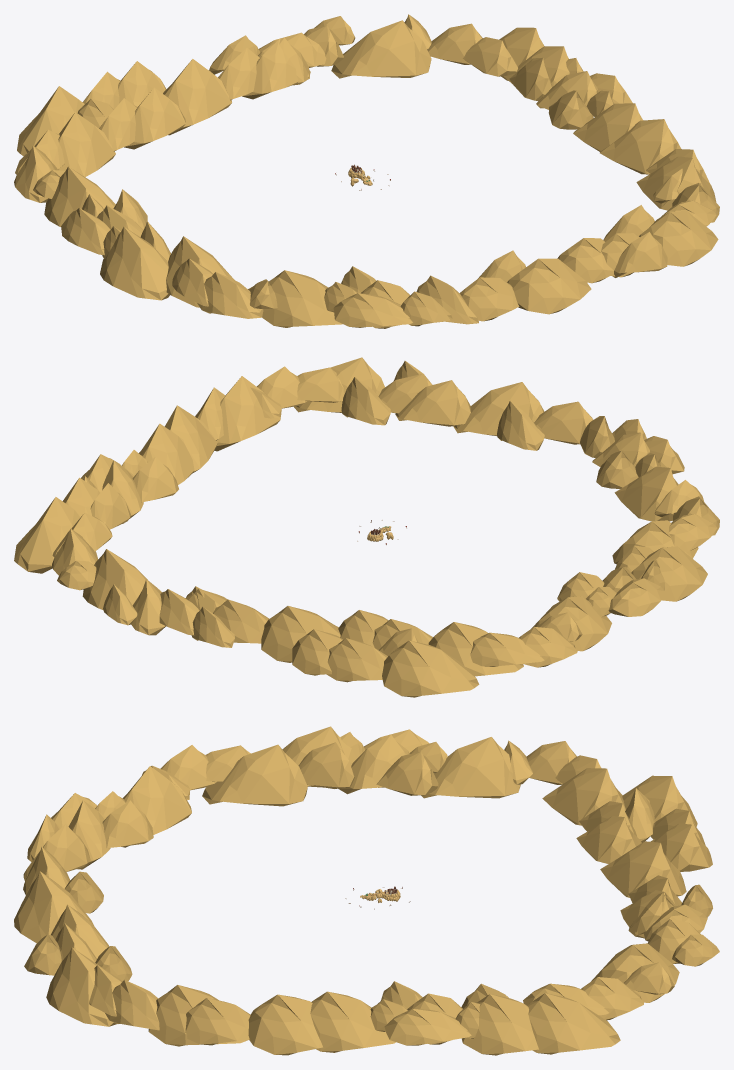
The model's file is mountain.glb.
3 renders of one model, top to bottom at view 1: azimuth 30°, elevation 25°; view 2: azimuth 150°, elevation 25°; view 3: azimuth 270°, elevation 25°, orthographic. The views are drawn at different scales.
Visible parts, largest first — view 1: Cube.103, Cube.080, Cube.091, Cube.072, Cube.064, Cube.084, Cube.112, Cube.050, Cube.077, Cube.047, Cube.053, Cube.068 (+46 smaller); view 2: Cube.068, Cube.100, Cube.087, Cube.064, Cube.081, Cube.091, Cube.080, Cube.103, Cube.072, Cube.066, Cube.050, Cube.051 (+41 smaller); view 3: Cube.069, Cube.100, Cube.053, Cube.112, Cube.092, Cube.110, Cube.084, Cube.064, Cube.091, Cube.050, Cube.072, Cube.111 (+47 smaller).
Boxes of the visible parts, x1,y1,x2,y2 form: Cube.103: (331, 20, 431, 78); Cube.080: (100, 227, 169, 300); Cube.091: (507, 258, 591, 314); Cube.072: (262, 270, 342, 327); Cube.064: (163, 59, 231, 135); Cube.084: (639, 211, 718, 266); Cube.112: (600, 119, 681, 174); Cube.050: (58, 112, 115, 177); Cube.077: (333, 293, 412, 327); Cube.047: (124, 87, 185, 149); Cube.053: (44, 166, 115, 226); Cube.068: (17, 86, 84, 156); Cube.068: (382, 640, 479, 697); Cube.100: (14, 497, 81, 573); Cube.087: (214, 376, 280, 451); Cube.064: (261, 606, 340, 662); Cube.081: (395, 380, 470, 426); Cube.091: (453, 382, 544, 435); Cube.080: (631, 546, 707, 601); Cube.103: (82, 549, 147, 609); Cube.072: (614, 466, 678, 521); Cube.066: (326, 638, 387, 682); Cube.050: (428, 622, 523, 676); Cube.051: (470, 632, 544, 666); Cube.069: (202, 744, 307, 806); Cube.100: (527, 993, 620, 1054); Cube.053: (421, 737, 520, 798); Cube.112: (248, 994, 322, 1055); Cube.092: (310, 991, 395, 1052); Cube.110: (461, 994, 538, 1055); Cube.084: (46, 947, 116, 1026); Cube.064: (600, 841, 686, 897); Cube.091: (14, 871, 93, 943); Cube.050: (542, 768, 625, 825); Cube.072: (121, 766, 191, 847); Cube.111: (185, 998, 250, 1045).
Bounding box in the file's own units: 1081 × 92.19 × 1087.
